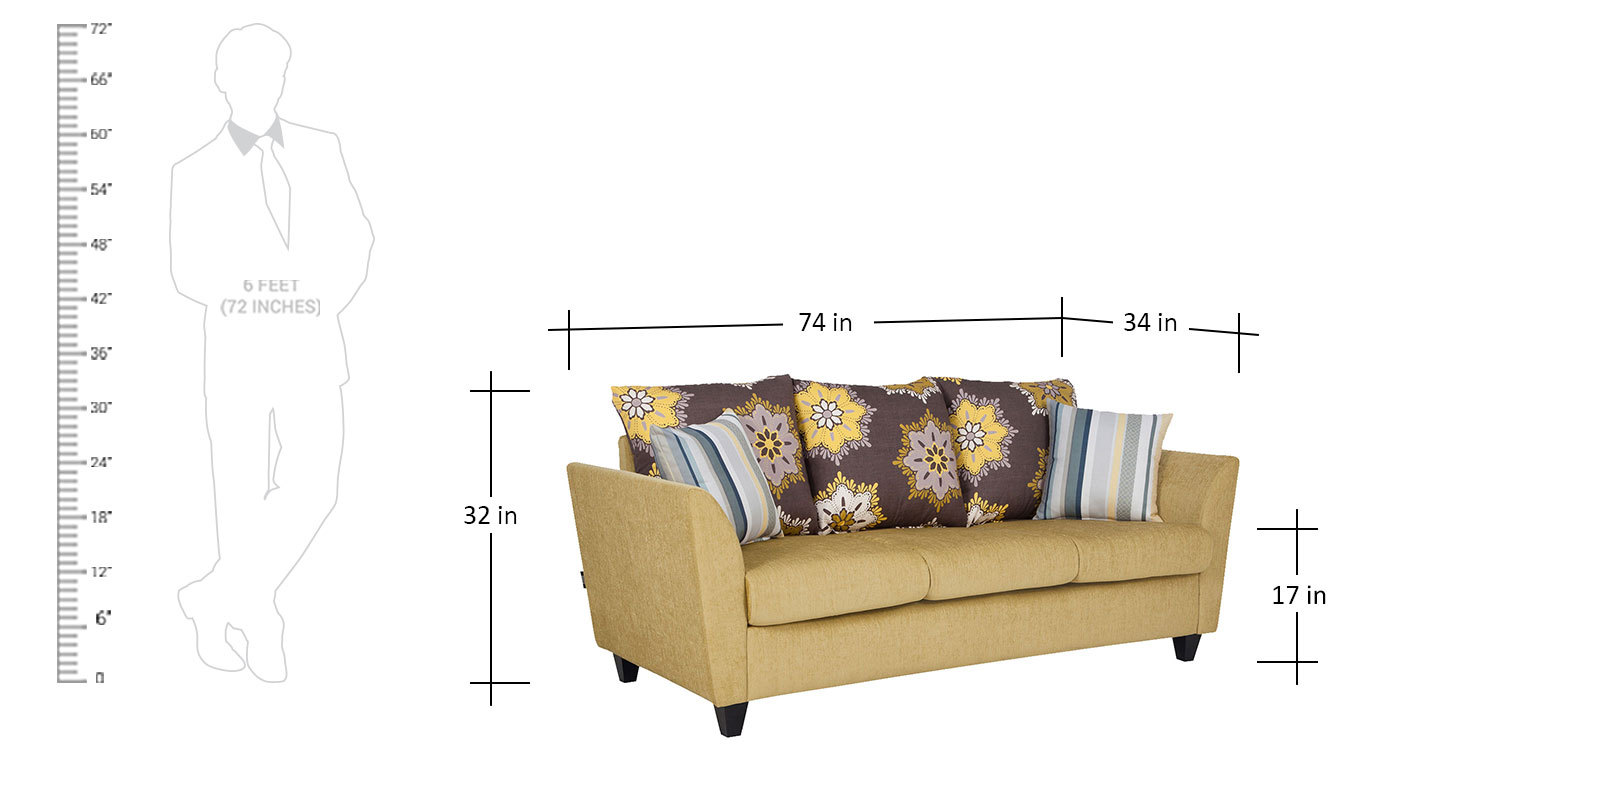Rio Brilliance Three Seater Sofa in Yellow Colour by Urban Living: (566, 372, 1241, 737)
